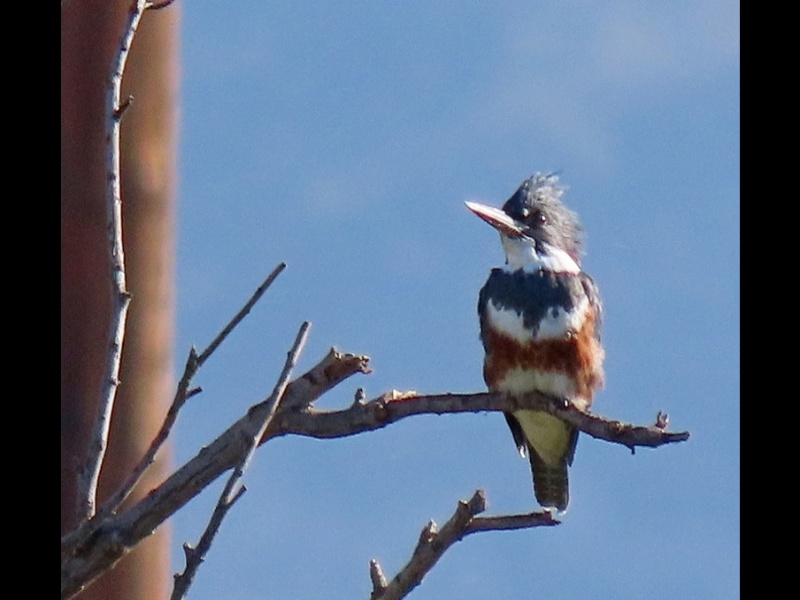kingfisher: (461, 163, 607, 519)
